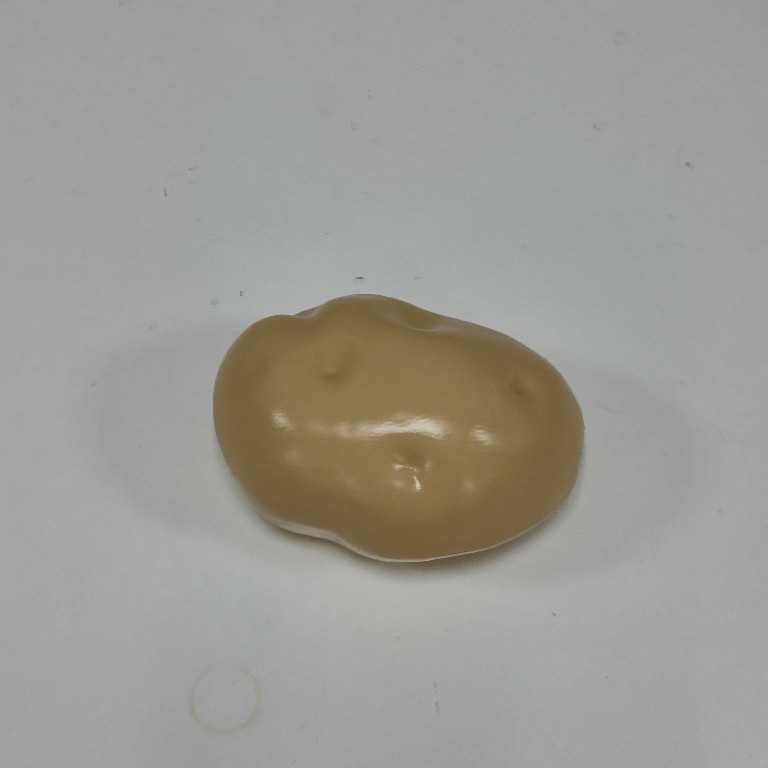fruit_potato: (209, 290, 588, 570)
